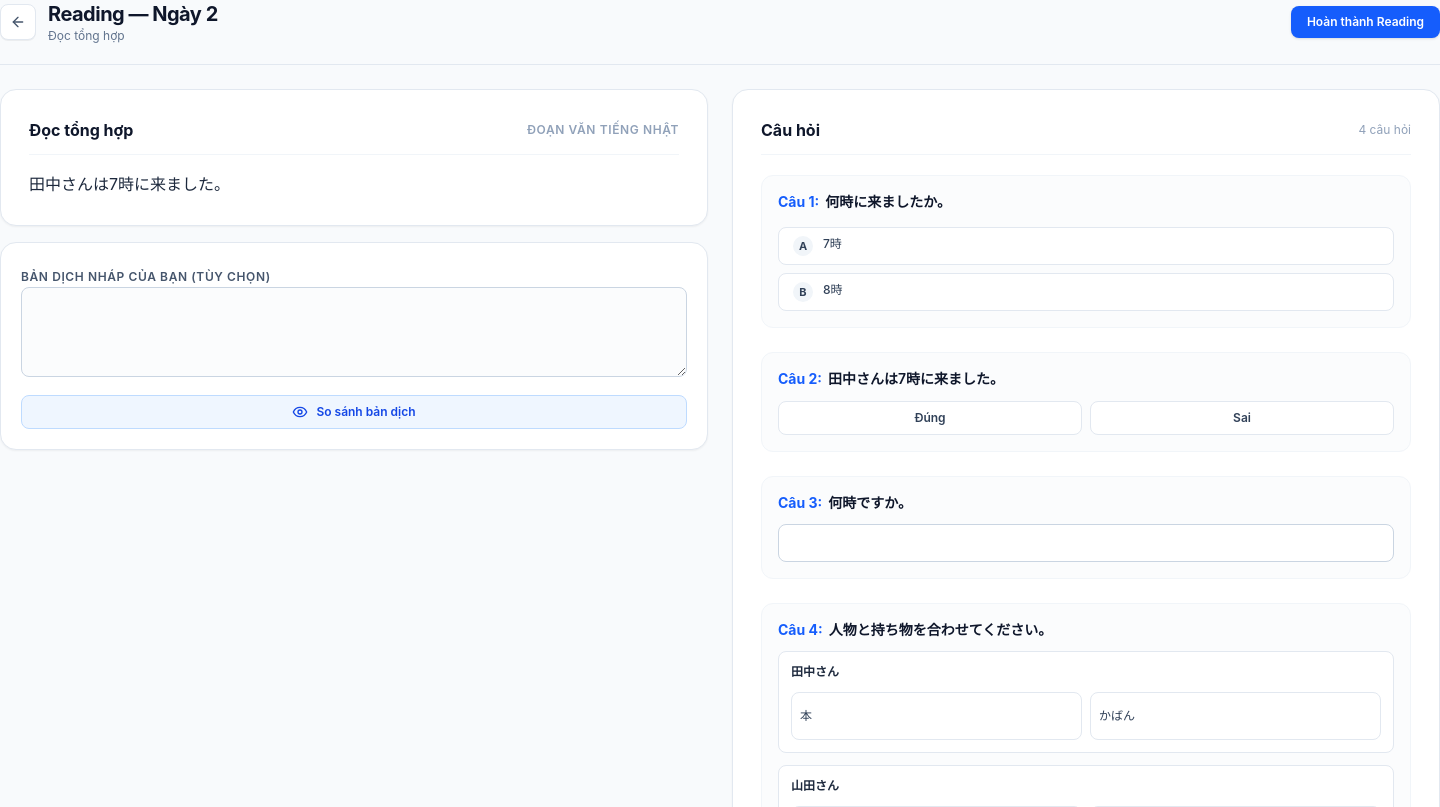
it: Reading schema v1.4 interactions › reveals a text translation without revealing answers
Click the button "So sánh bản dịch": x=354, y=412 [21,395,687,429]
(page scrolled)
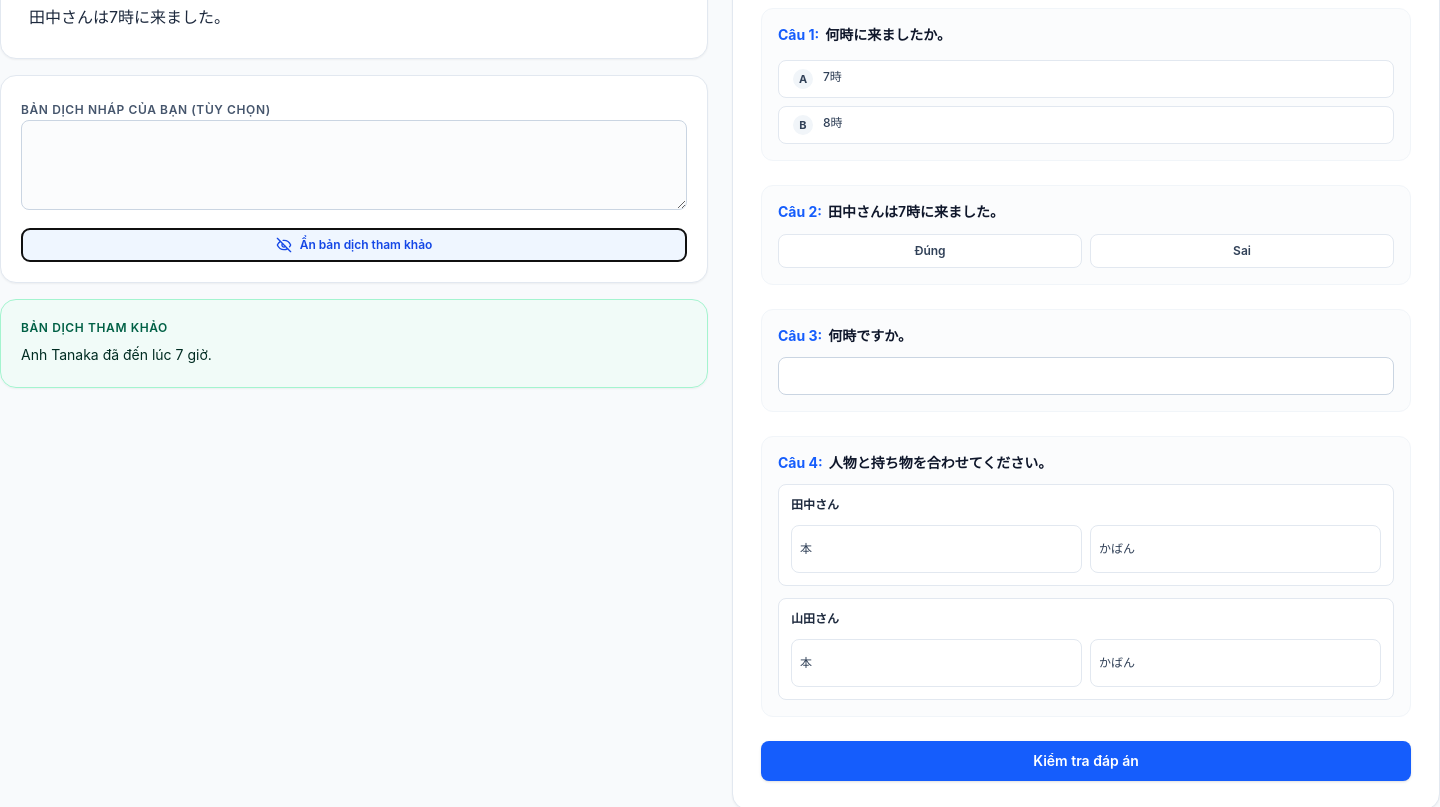
Expected: the button "Kiểm tra đáp án" is shown, [761,741,1411,781]
Now the element with test id "reference-translation-card" shows "Anh Tanaka đã đến lúc 7 giờ.", box [21,346,212,363]
